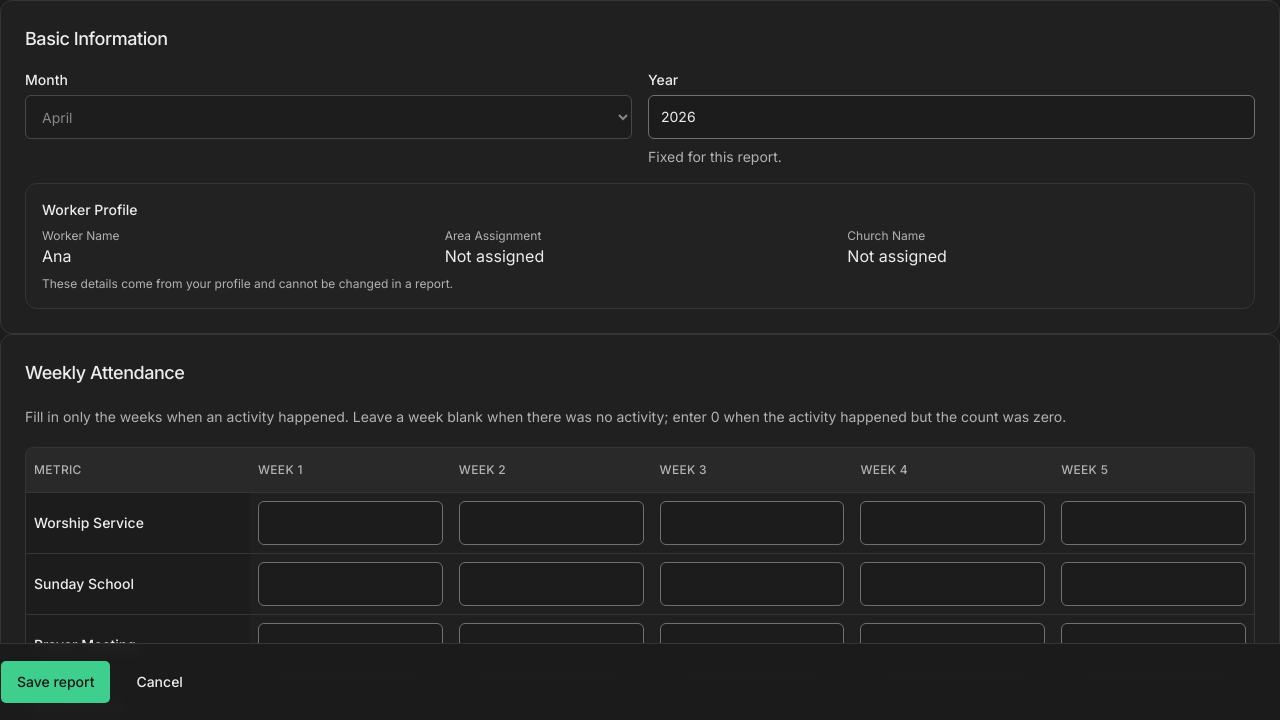
Scenario: ReportForm › maps 422 details onto their fields
What coordinates should you click on to do the following:
click the button "Save report"
I would click on:
 (56, 682)
Its box is top-left (0, 660), bottom-right (111, 704).
(page scrolled)
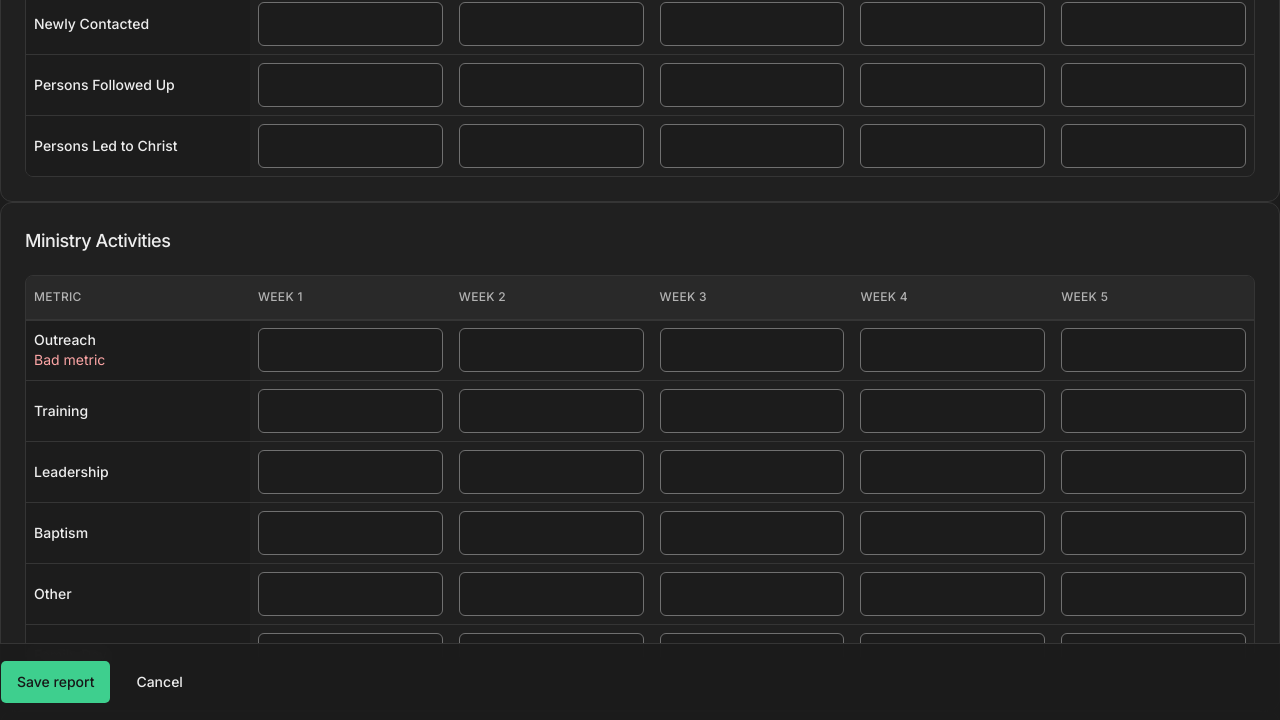
Check: the text "Bad metric" is shown, box top-left (34, 351), bottom-right (105, 368)
